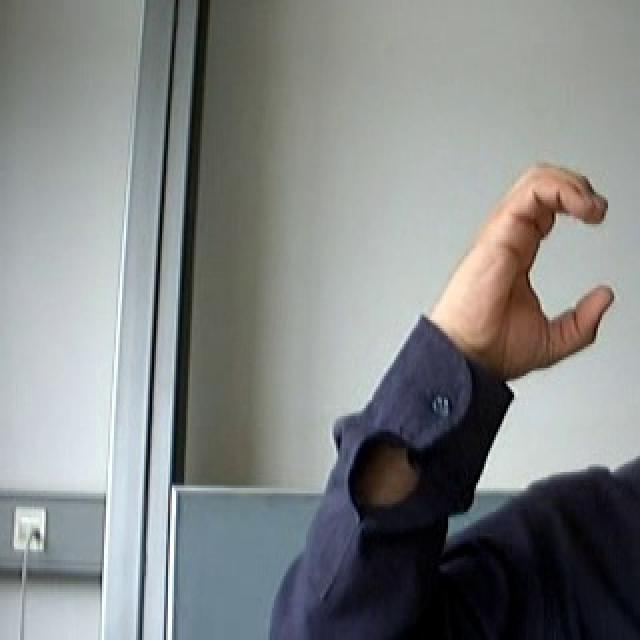C: (462, 144, 618, 383)
